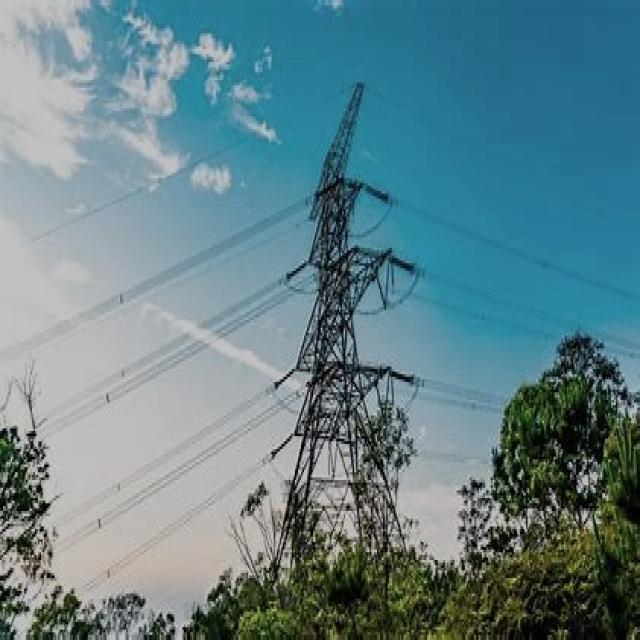utility poles: (480, 296, 610, 486), (328, 362, 433, 518)
